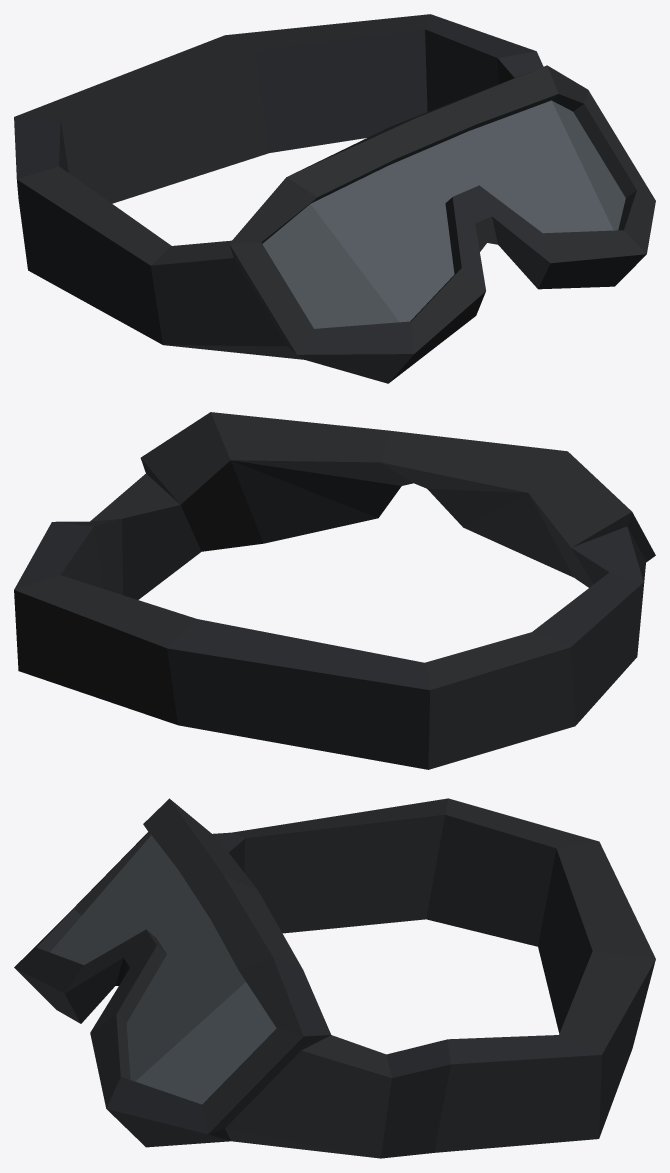
File: SM_Item_Goggles_01.fbx
3 views of the same model, one above another, from view 1: azimuth 30°, elevation 25°; view 2: azimuth 150°, elevation 25°; view 3: azimuth 270°, elevation 25° (orthographic). The views are drawn at different scales.
Parts seen in each view (by area): view 1: SM_Item_Goggles_01; view 2: SM_Item_Goggles_01; view 3: SM_Item_Goggles_01.
Part boxes in pixels (x1,y1,x2,y2): SM_Item_Goggles_01: [14, 14, 655, 383]; SM_Item_Goggles_01: [14, 412, 655, 769]; SM_Item_Goggles_01: [14, 798, 655, 1158].
Size of the model in its own units: 26.57 by 8.75 by 26.93.
